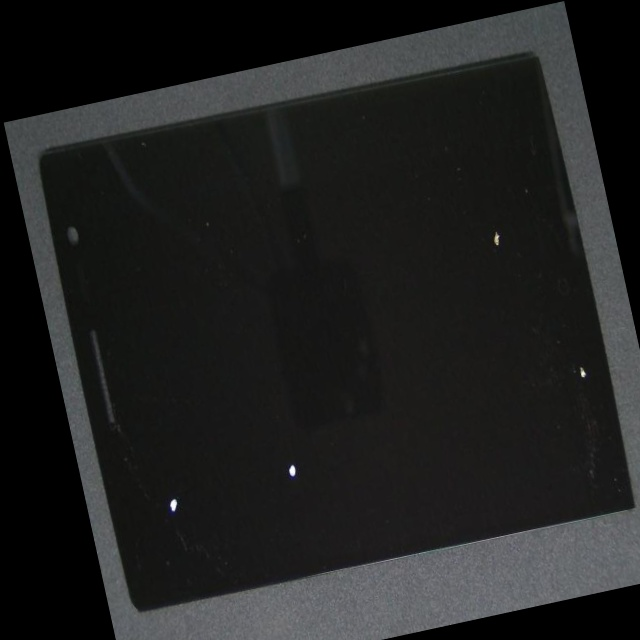stain: (317, 234, 640, 620), (243, 62, 631, 380), (140, 218, 423, 640), (77, 266, 241, 640)
